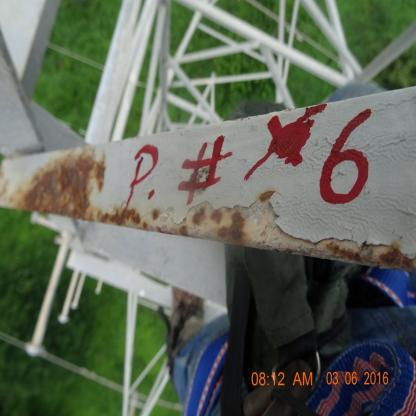rust: (19, 149, 415, 270), (247, 199, 312, 253)
